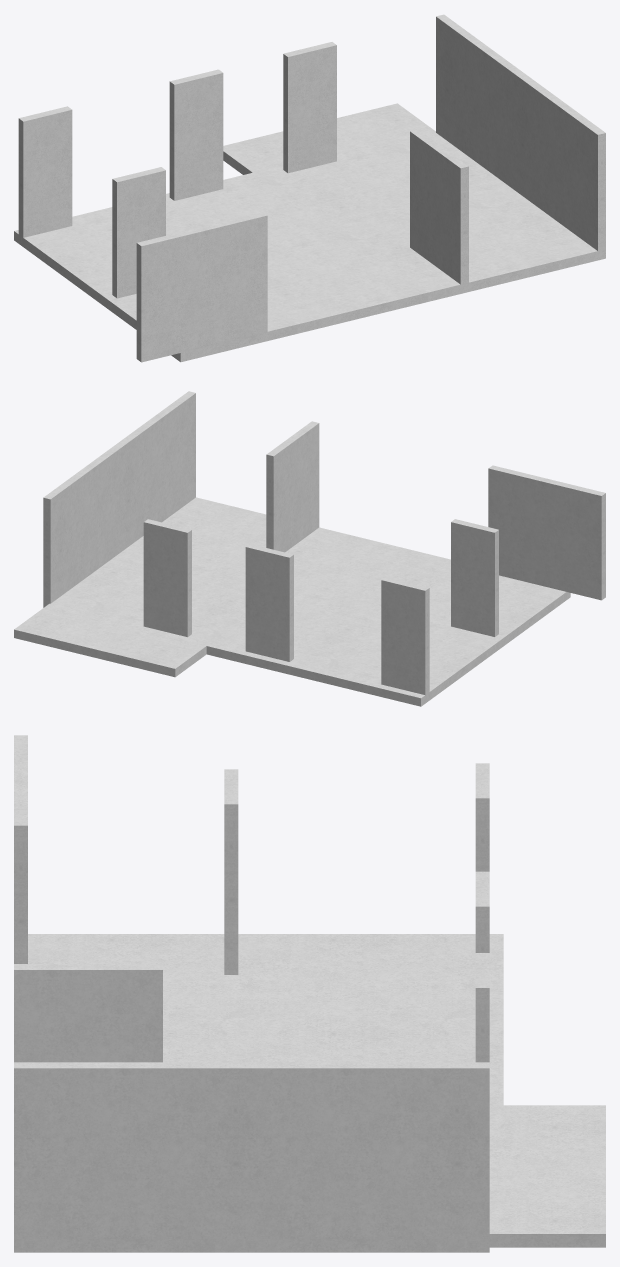
The model's file is ADSK_62.obj.
The picture shows the model from 3 angles, top to bottom: view 1: azimuth 30°, elevation 25°; view 2: azimuth 150°, elevation 25°; view 3: azimuth 270°, elevation 25°; orthographic projection. The views are drawn at different scales.
Size of the model in its own units: 11.38 by 2.94 by 8.55.
1 material, 1 textured.
